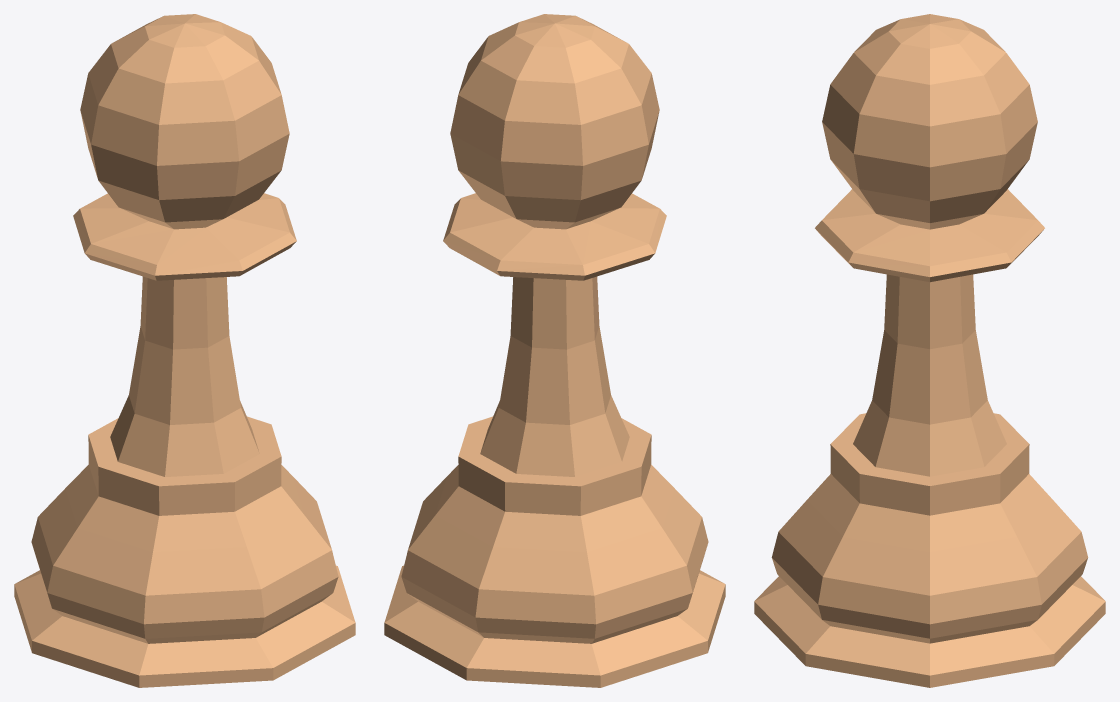
File: pawn.obj
The picture shows the model from 3 angles, left to right: view 1: azimuth 30°, elevation 25°; view 2: azimuth 150°, elevation 25°; view 3: azimuth 270°, elevation 25°; orthographic projection.
Bounding box in the file's own units: 1.28 × 2.36 × 1.28.
